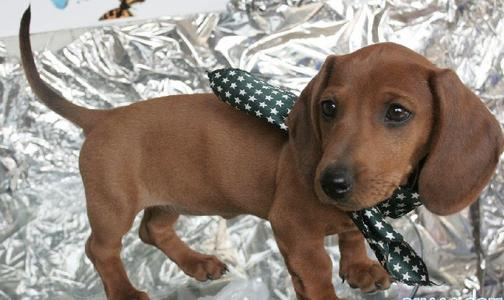dog: (11, 2, 503, 300)
